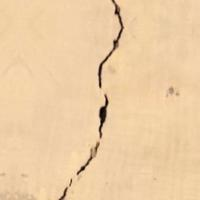crack: (36, 0, 130, 200)
